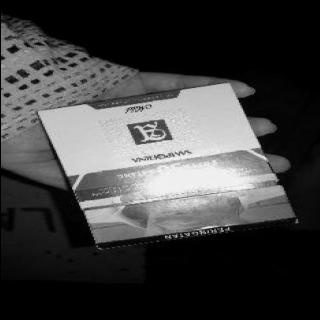objects: (38, 82, 298, 248)
